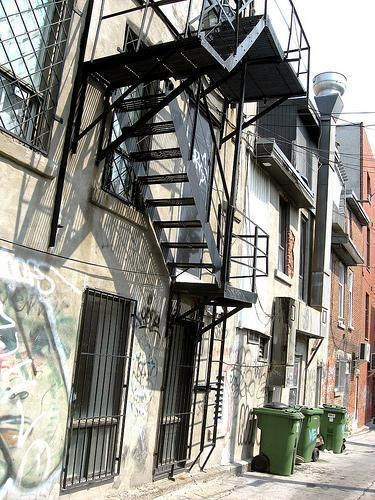Bote de Basura: (258, 401, 300, 476), (321, 404, 342, 453)
